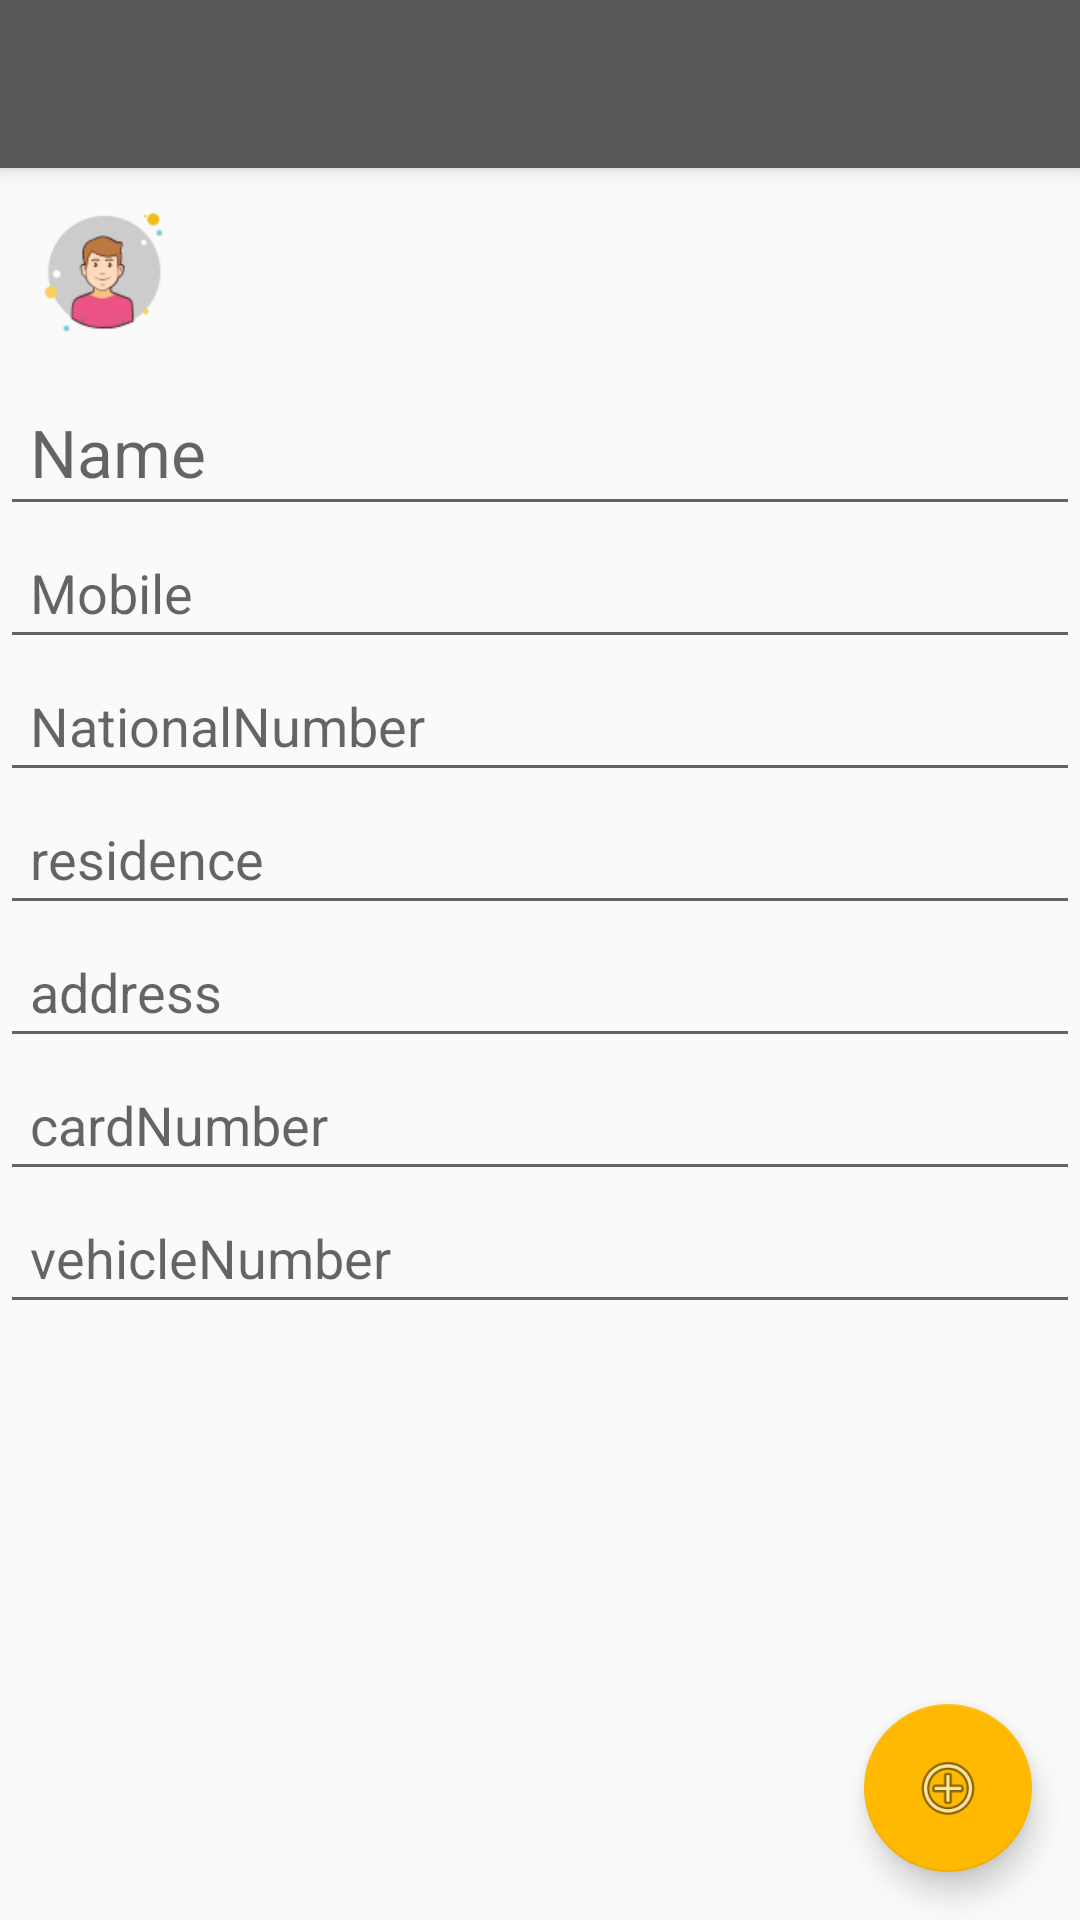

Screen size 1080px×1920px. Icon name, then its box in pixels as (x1, y1, x2, y2):
add: (864, 1704, 1032, 1872)
user: (44, 212, 162, 332)
